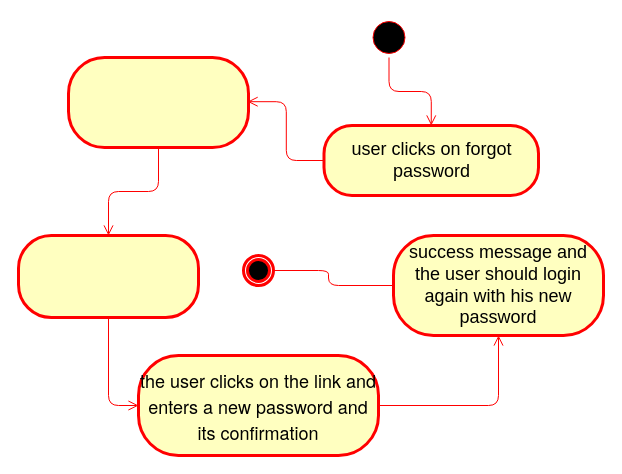
This 622x474 diagram has some shape labels left out. Here are the shapes that lost their labels. From the top down, the box of each, then its label:
(66, 56, 250, 148): system checks validity of the user by his credentials
(16, 234, 200, 318): send the link of new password entry page to his email
